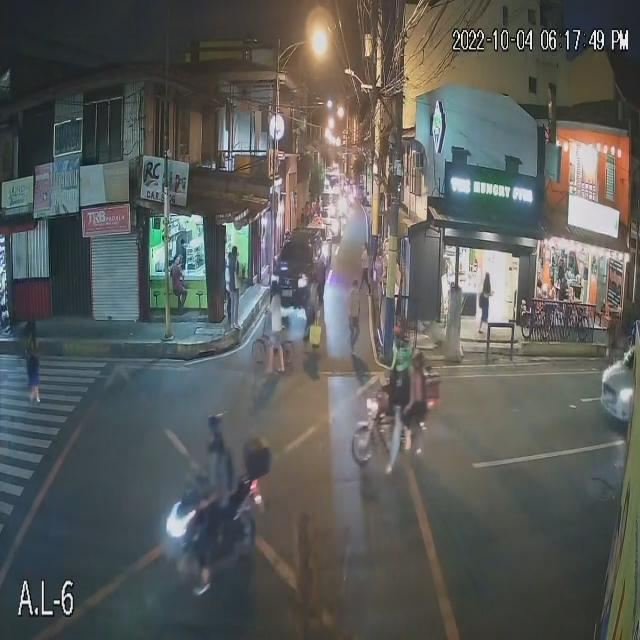motorcycle: (163, 437, 272, 594), (350, 366, 441, 470)
rider: (197, 414, 239, 540), (384, 335, 420, 469), (408, 342, 429, 455)
